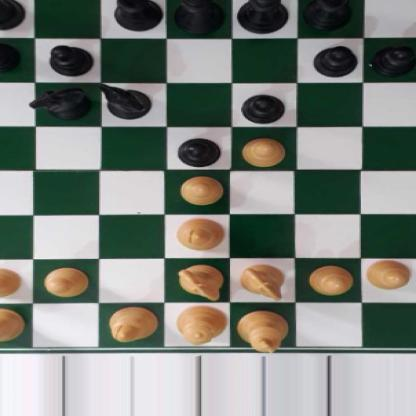black-bishop: (302, 0, 353, 32), (112, 0, 163, 30)
black-king: (237, 0, 289, 33)
black-knight: (33, 86, 88, 120), (98, 83, 152, 117)
black-pawn: (240, 90, 287, 123), (48, 42, 91, 76), (372, 42, 416, 75), (176, 136, 222, 167), (313, 46, 355, 77), (0, 40, 21, 71)
black-queen: (172, 0, 226, 32)
black-rook: (0, 0, 28, 30)
white-bishop: (107, 305, 156, 343), (176, 217, 225, 250)
white-king: (237, 307, 287, 353)
white-knight: (238, 263, 285, 299), (178, 265, 225, 300)
white-pawn: (43, 266, 90, 296), (307, 264, 354, 294), (365, 260, 410, 291), (179, 173, 223, 204), (240, 136, 287, 165), (0, 267, 23, 298)
white-queen: (176, 301, 225, 347)
white-rook: (0, 307, 25, 346)
